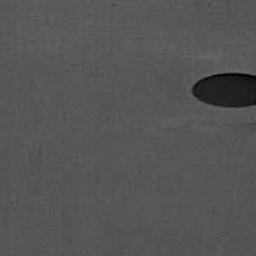Punching: (191, 72, 256, 109)
